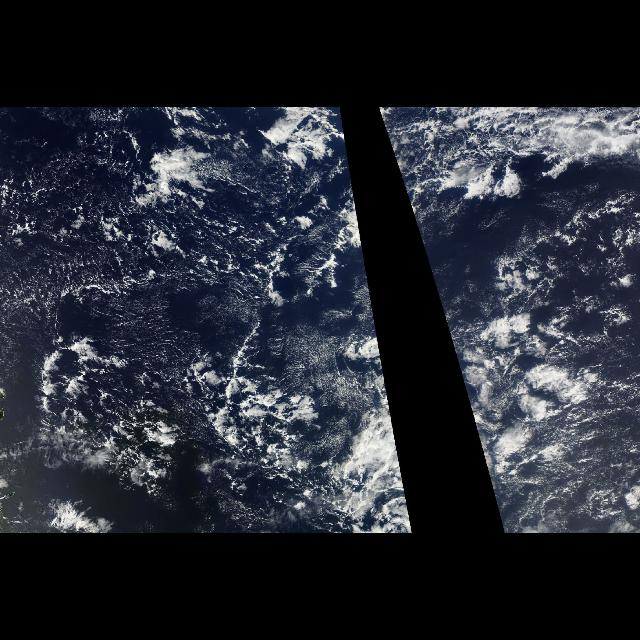Gravel: (1, 160, 356, 500), (502, 435, 638, 533)
Sugar: (1, 197, 385, 413), (520, 381, 638, 533), (426, 260, 479, 374)
